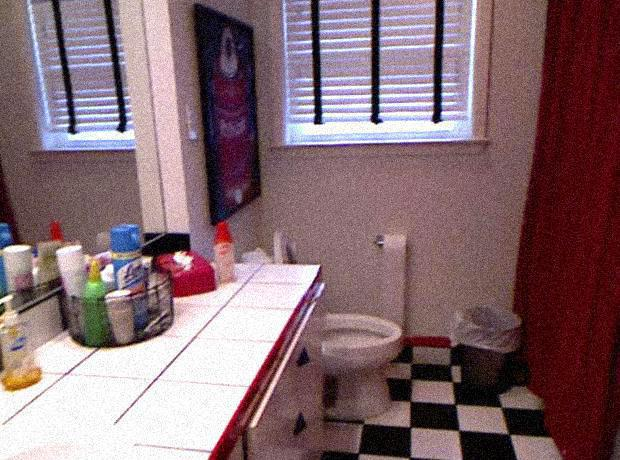Bote de Basura: (451, 301, 522, 393)
Sanitario: (258, 214, 409, 430)
